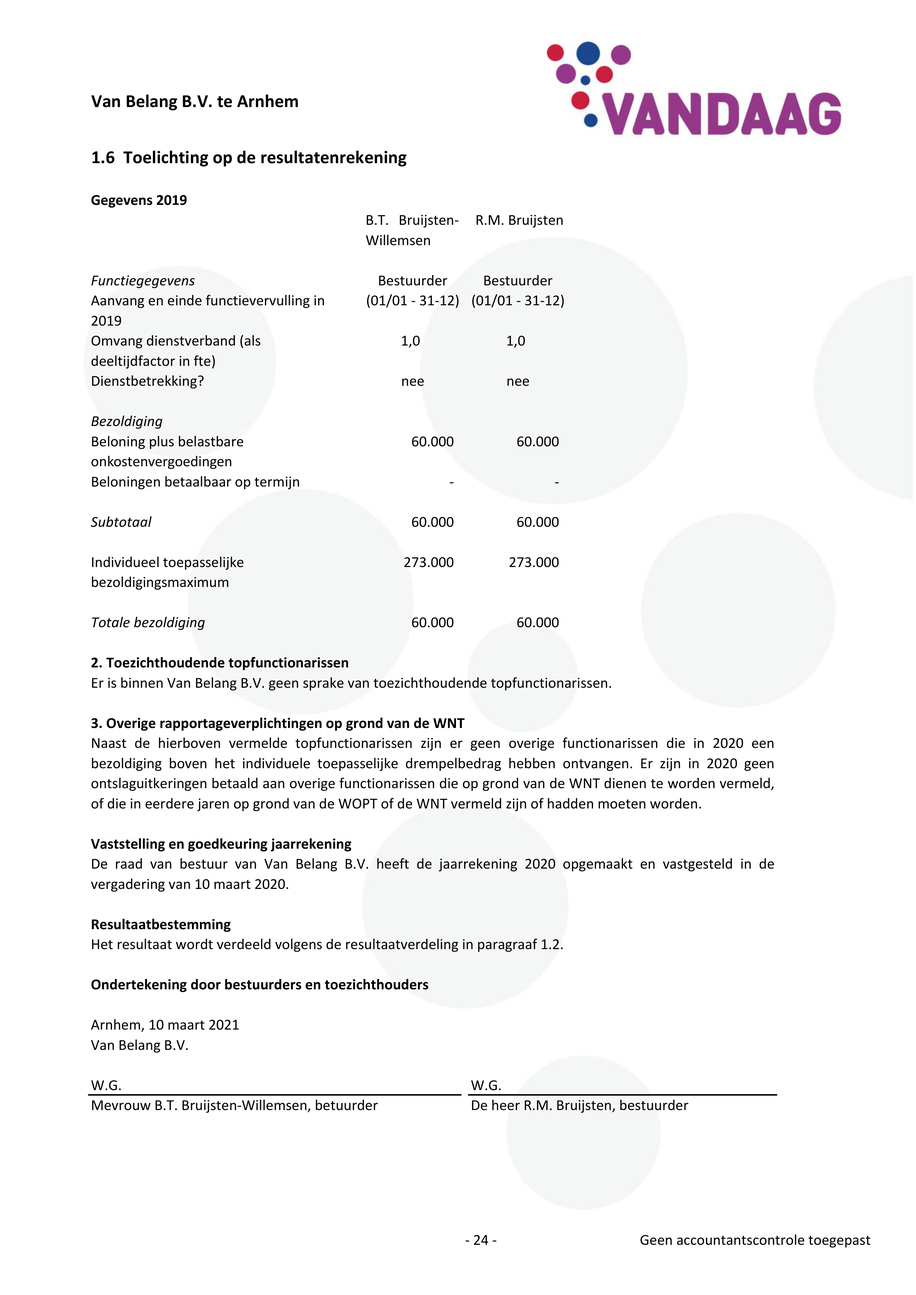coulmn: (85, 189, 318, 638), (357, 211, 471, 636), (472, 209, 571, 640)
